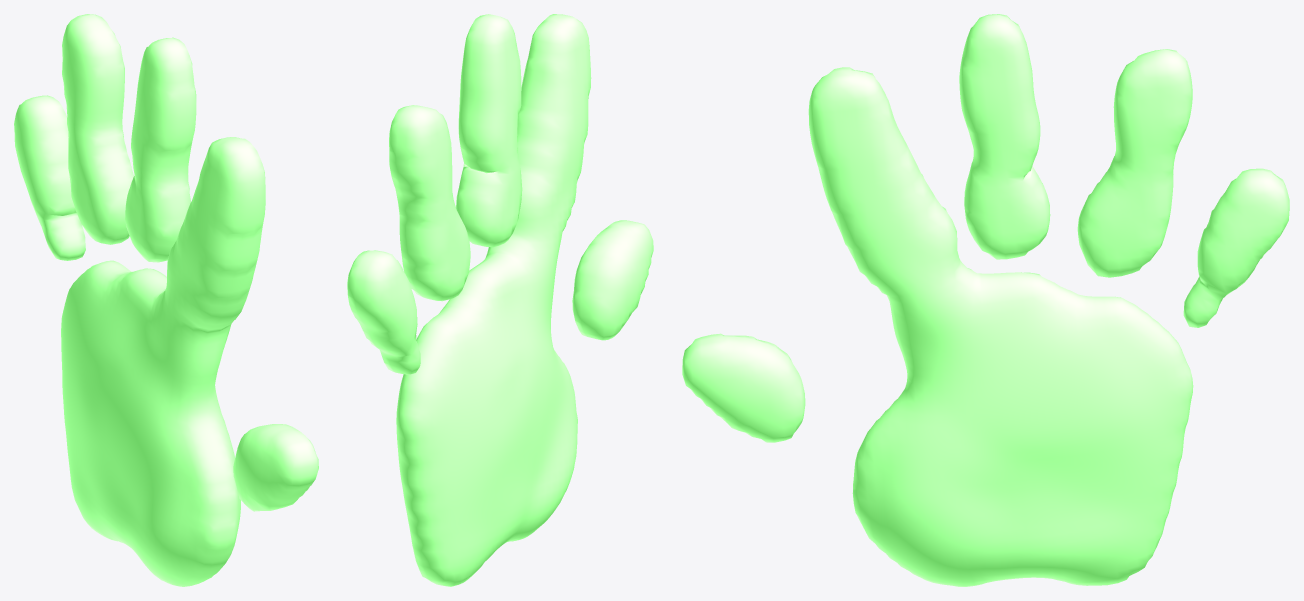
File: cwhand.glb
The picture shows the model from 3 angles, left to right: view 1: azimuth 30°, elevation 25°; view 2: azimuth 150°, elevation 25°; view 3: azimuth 270°, elevation 25°; orthographic projection. The views are drawn at different scales.
Visible parts, largest first — view 1: hand; view 2: hand; view 3: hand.
Boxes of the visible parts, box(x1,y1,x2,y2) form: hand: box(14, 14, 318, 586); hand: box(347, 14, 653, 586); hand: box(682, 14, 1289, 586).
Size of the model in its own units: 2.8 by 16.99 by 16.34.
